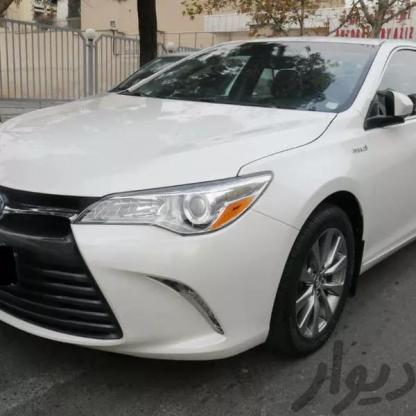Car: (0, 3, 405, 369)
